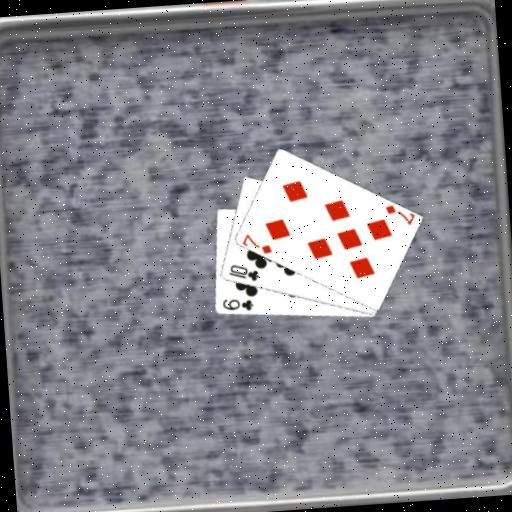10C: (225, 261, 261, 285)
6C: (219, 295, 255, 314)
7D: (239, 229, 274, 257), (382, 201, 416, 228)
